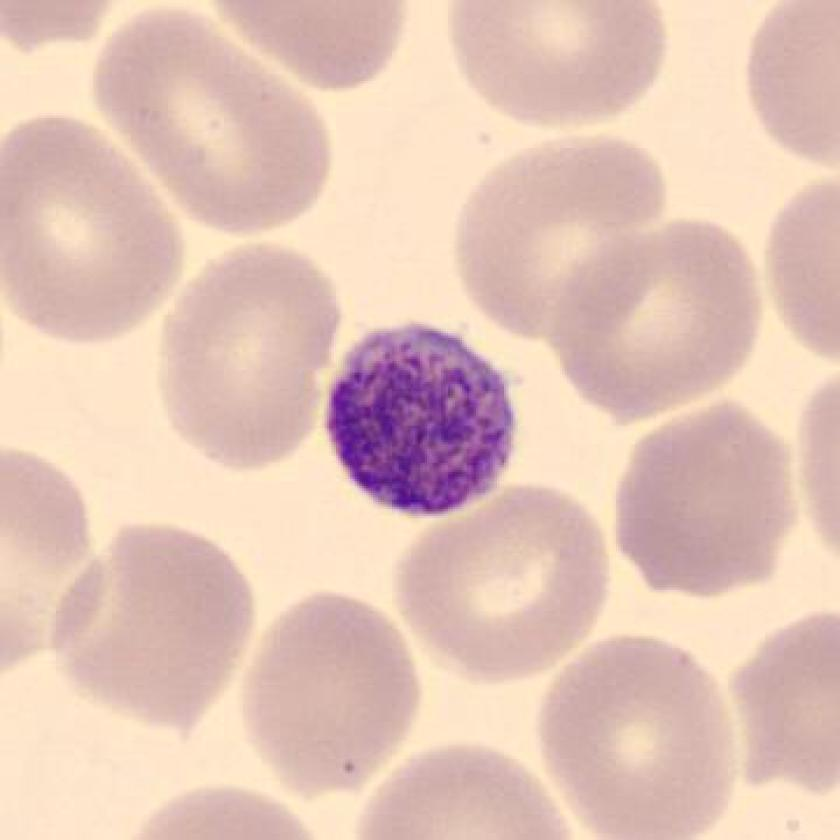platelets: (314, 311, 528, 538)
